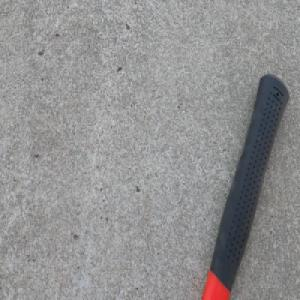Hammer: (199, 70, 289, 300)
